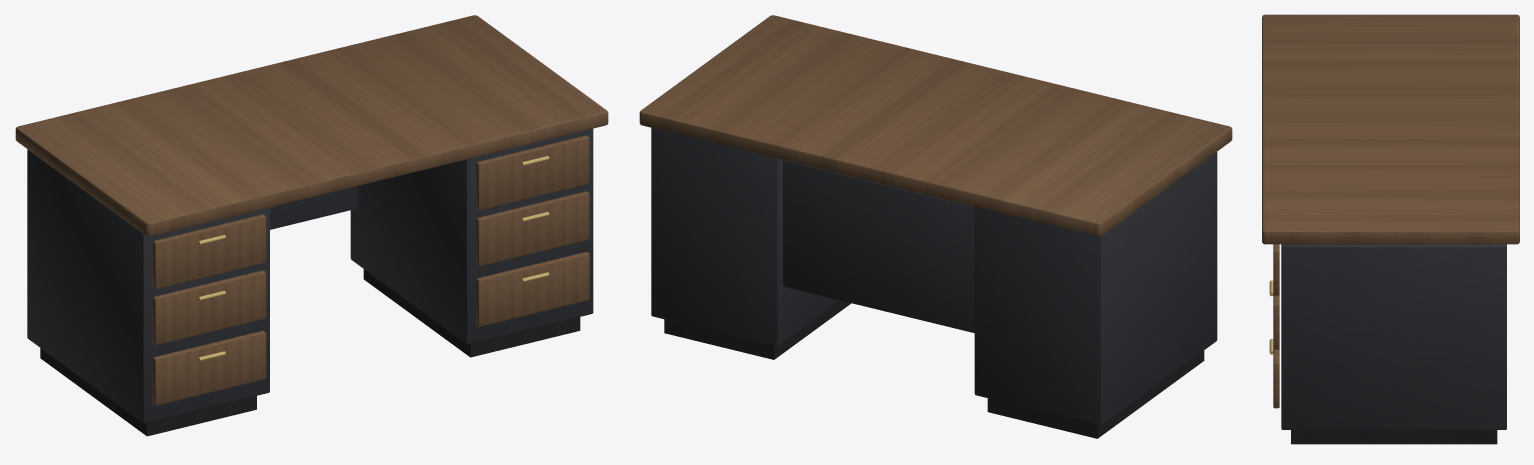
File: office_desk.glb
3 views of the same model, side by side, from view 1: azimuth 30°, elevation 25°; view 2: azimuth 150°, elevation 25°; view 3: azimuth 270°, elevation 25° (orthographic). The views are drawn at different scales.
Parts seen in each view (by area): view 1: Top, Pedestal_L, Pedestal_R, Drawer_L02, Drawer_L03, Drawer_L01, Drawer_R03, Drawer_R01, Drawer_R02, Pedestal_Kick_R, Pedestal_Kick_L, Modesty_Panel; view 2: Top, Pedestal_L, Pedestal_R, Modesty_Panel, Pedestal_Kick_L, Pedestal_Kick_R; view 3: Top, Pedestal_R, Pedestal_Kick_R, Drawer_R01, Drawer_R02, Drawer_R03.
Part boxes in pixels (x1,y1,x2,y2): Top: [15, 15, 608, 236]; Pedestal_L: [27, 149, 269, 423]; Pedestal_R: [350, 128, 593, 344]; Drawer_L02: [152, 270, 266, 344]; Drawer_L03: [152, 214, 266, 289]; Drawer_L01: [152, 330, 266, 405]; Drawer_R03: [476, 135, 589, 210]; Drawer_R01: [476, 252, 589, 326]; Drawer_R02: [476, 191, 589, 266]; Pedestal_Kick_R: [363, 269, 580, 357]; Pedestal_Kick_L: [40, 348, 256, 436]; Modesty_Panel: [270, 186, 358, 229]; Top: [639, 15, 1232, 236]; Pedestal_L: [974, 152, 1217, 425]; Pedestal_R: [651, 128, 840, 346]; Modesty_Panel: [783, 160, 974, 332]; Pedestal_Kick_L: [987, 350, 1204, 438]; Pedestal_Kick_R: [664, 300, 851, 359]; Top: [1262, 14, 1519, 244]; Pedestal_R: [1281, 244, 1506, 429]; Pedestal_Kick_R: [1291, 430, 1497, 444]; Drawer_R01: [1273, 349, 1279, 408]; Drawer_R02: [1273, 295, 1279, 349]; Drawer_R03: [1273, 244, 1279, 295].
Size of the model in its own units: 1.6 by 0.75 by 0.8.
Materials: 5 (3 with a texture image).
